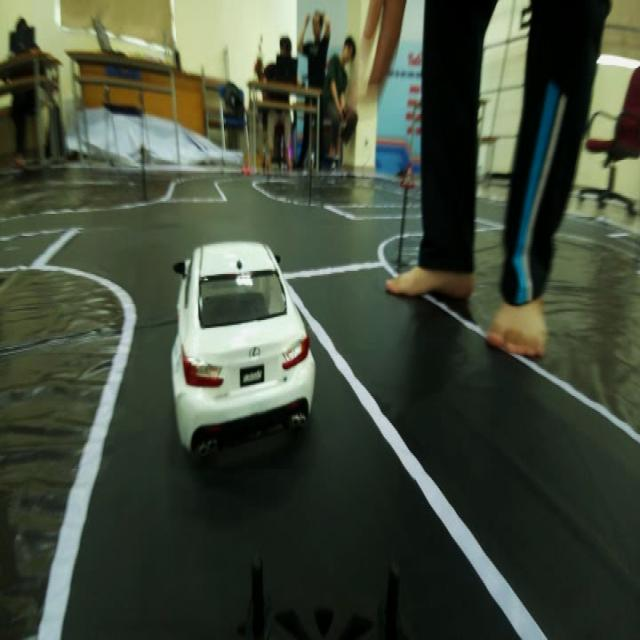car: (155, 231, 321, 457)
